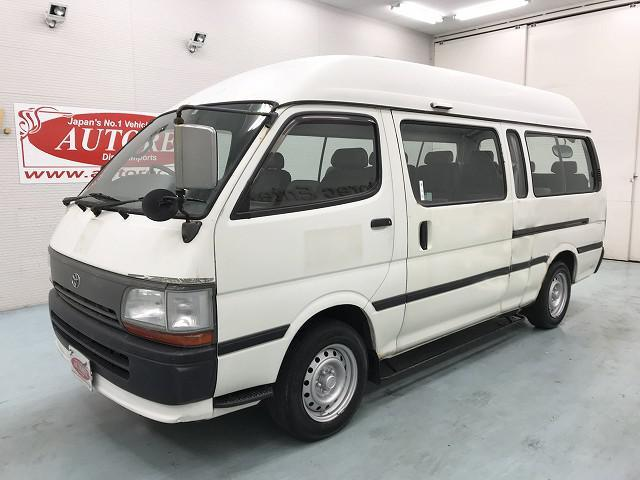van: (53, 51, 607, 434)
